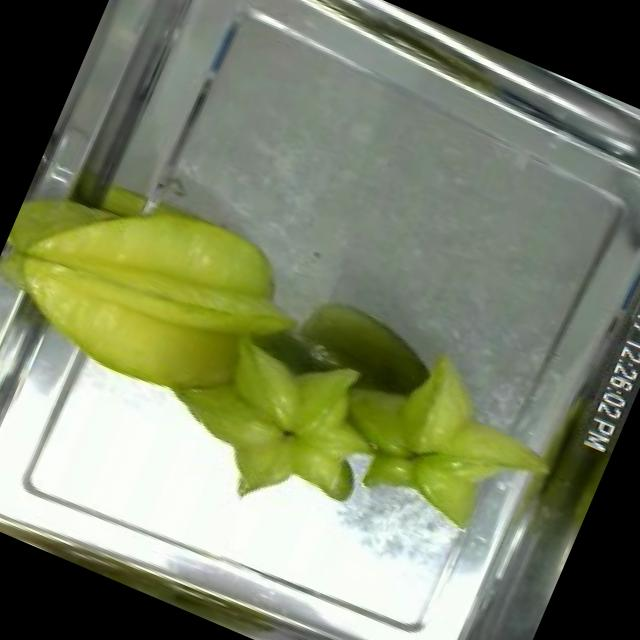fruit: (0, 141, 323, 440), (118, 286, 410, 548), (304, 310, 590, 568)
